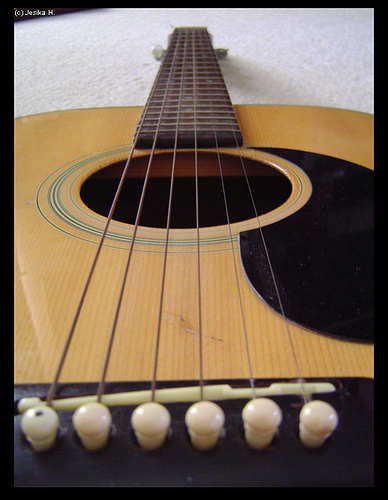guitar: (11, 24, 374, 487)
